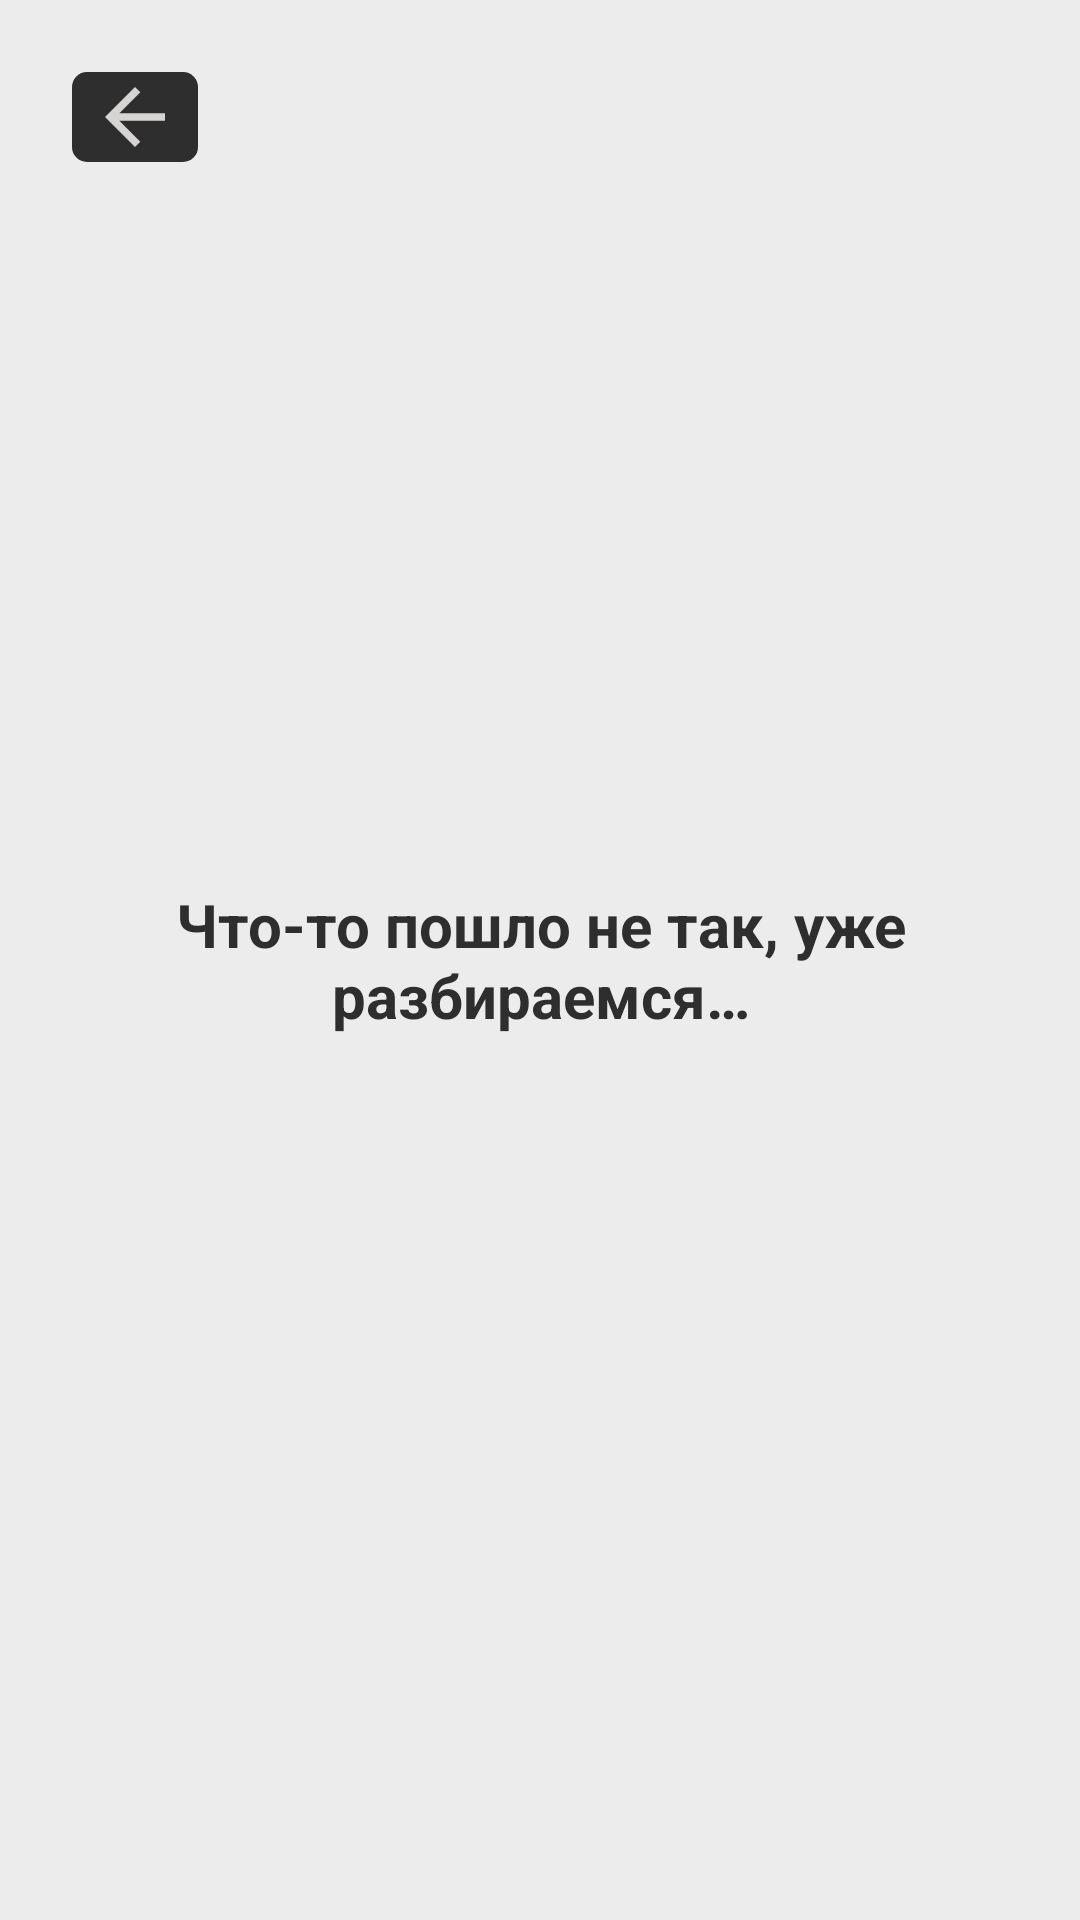

Icon click points for this 1080x1920 phone screenshot, format point (x, y):
back: point (135, 117)
